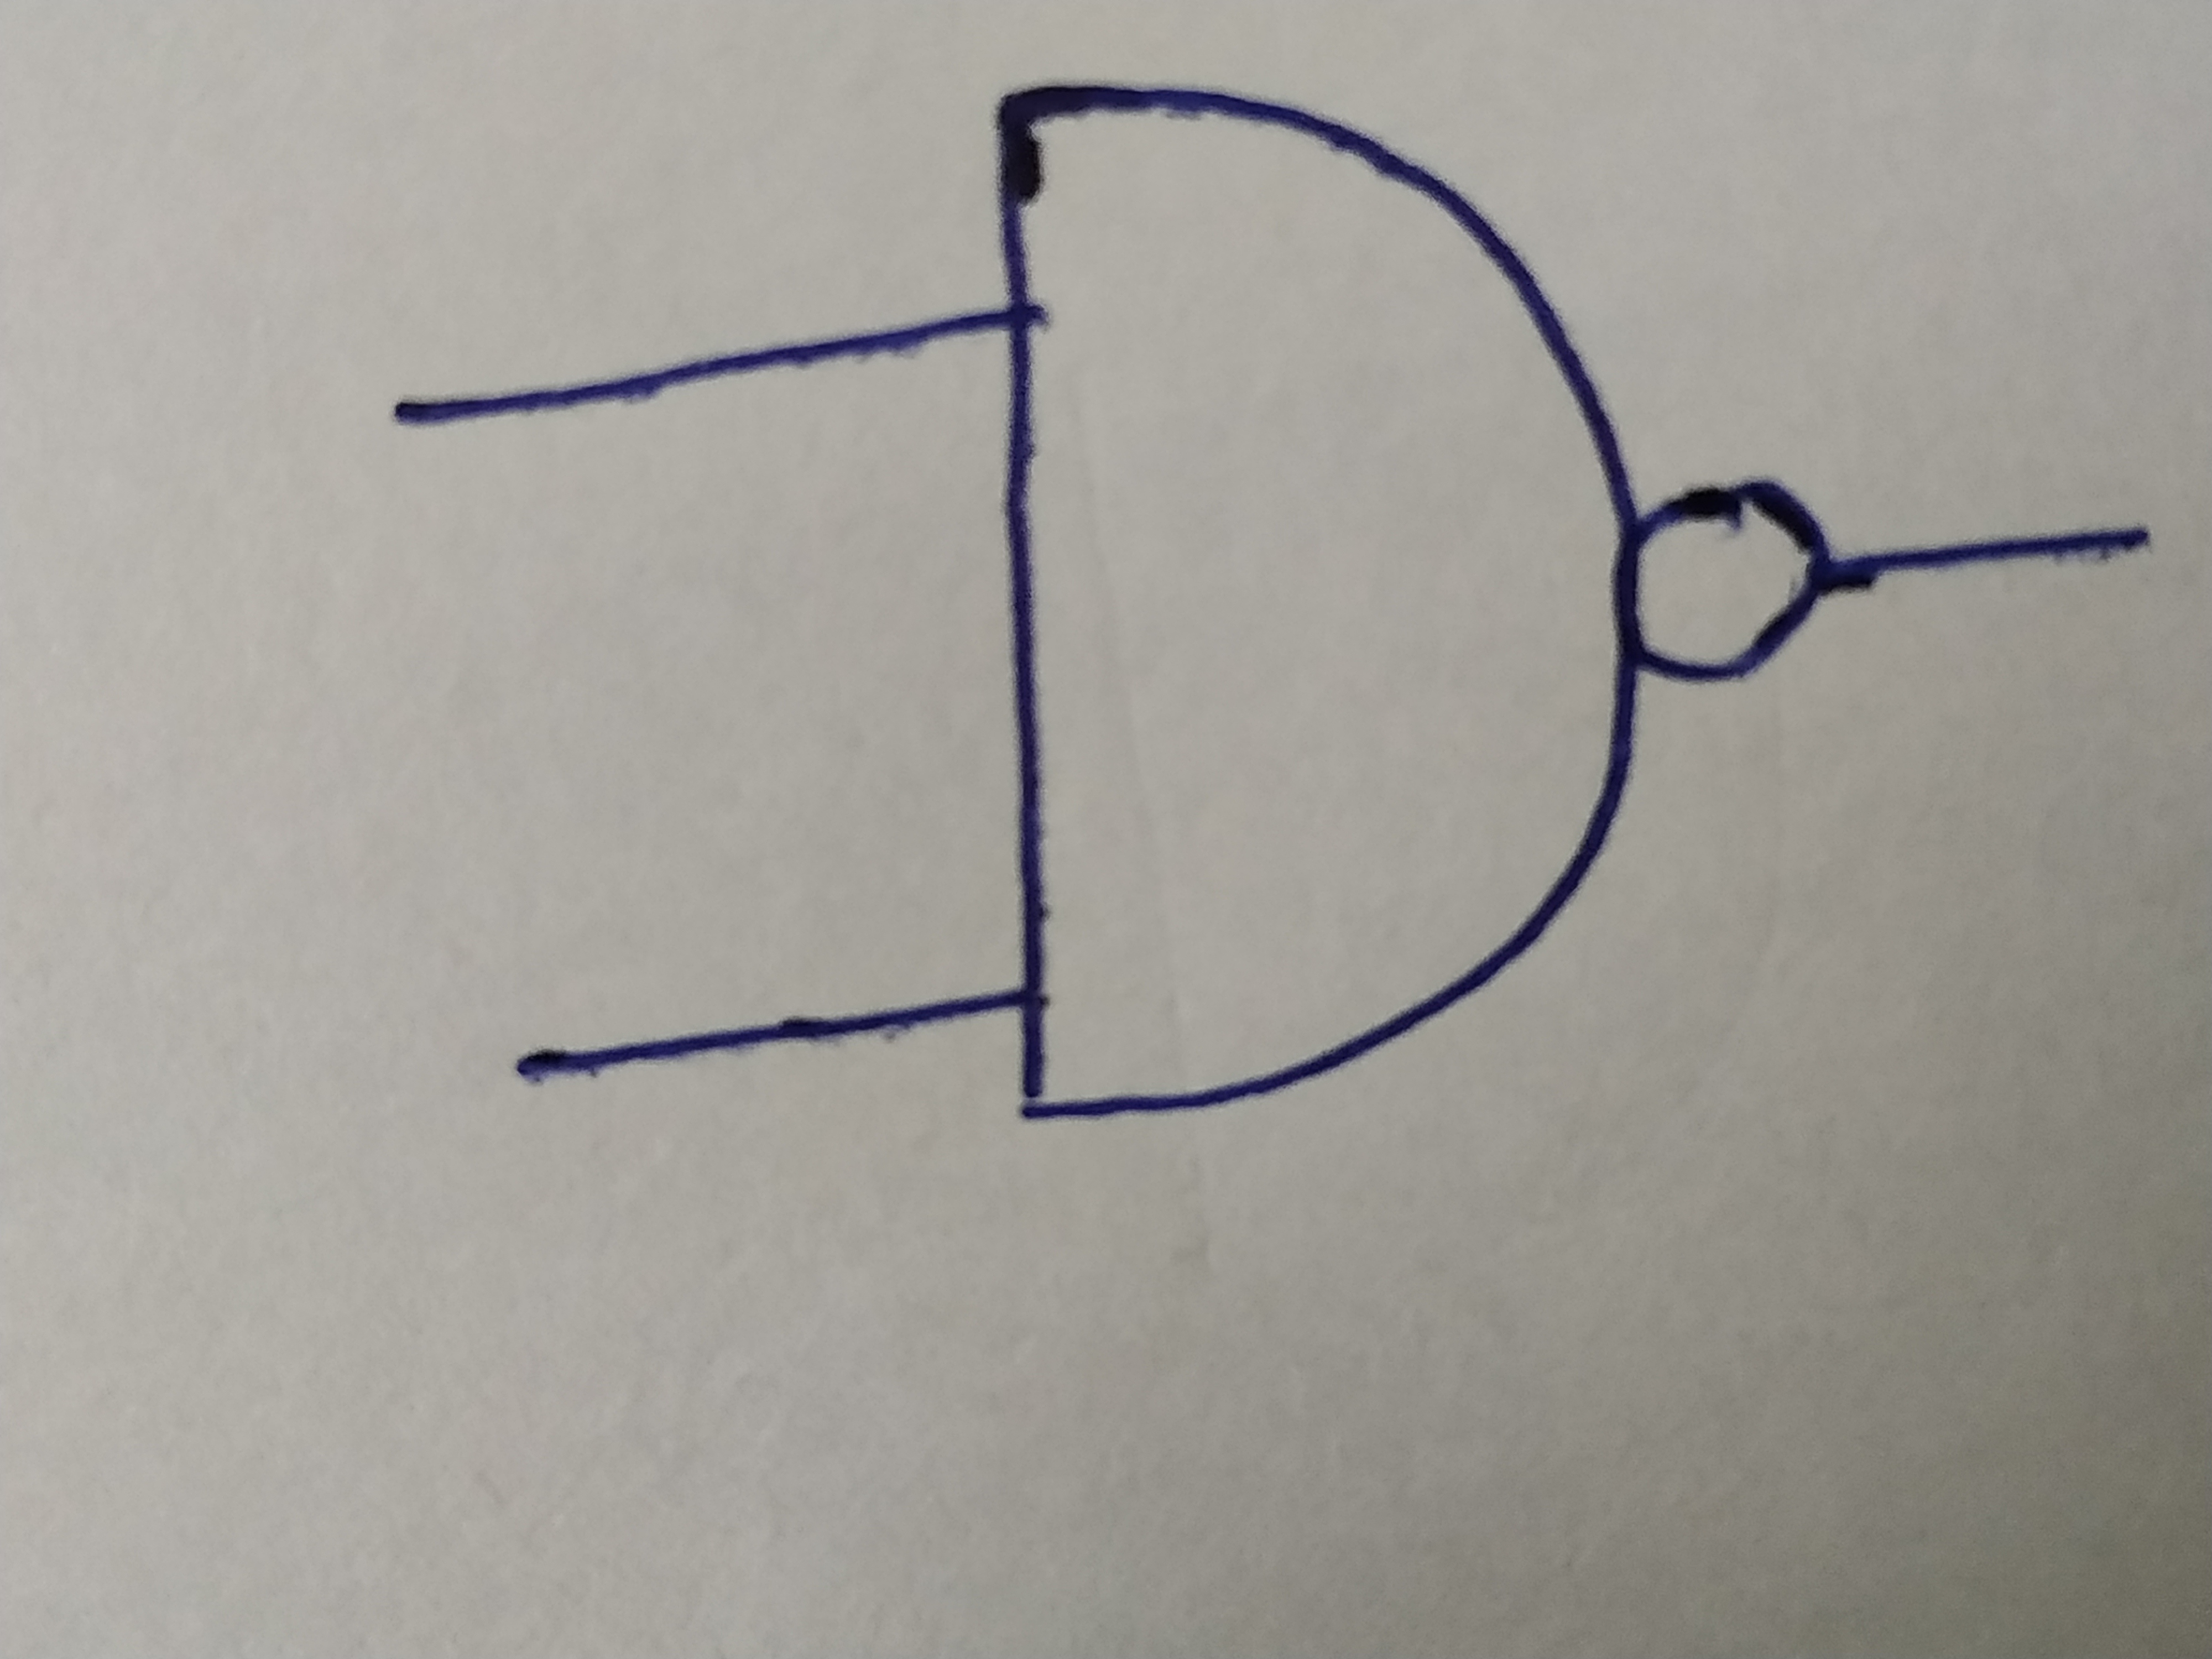and: (1000, 89, 1632, 1126)
not: (1632, 484, 1820, 678)
